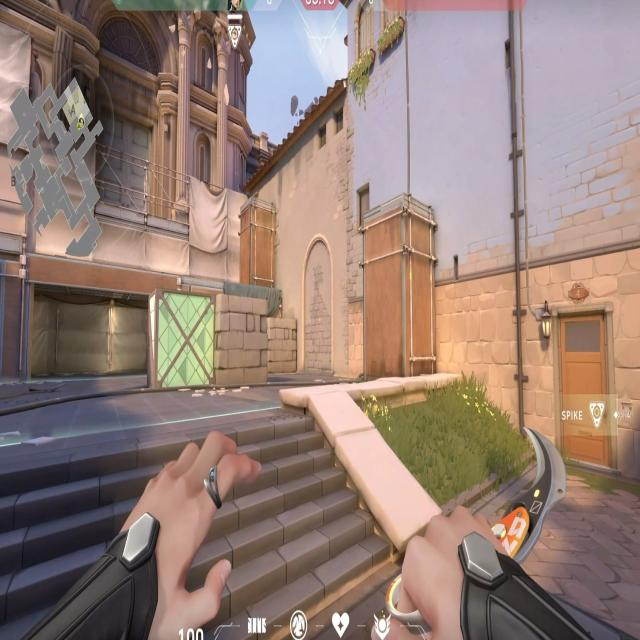A_Heaven_Box: (236, 188, 279, 290)
A_Hell: (18, 244, 149, 395)
A_Site_Box: (143, 282, 276, 392)
